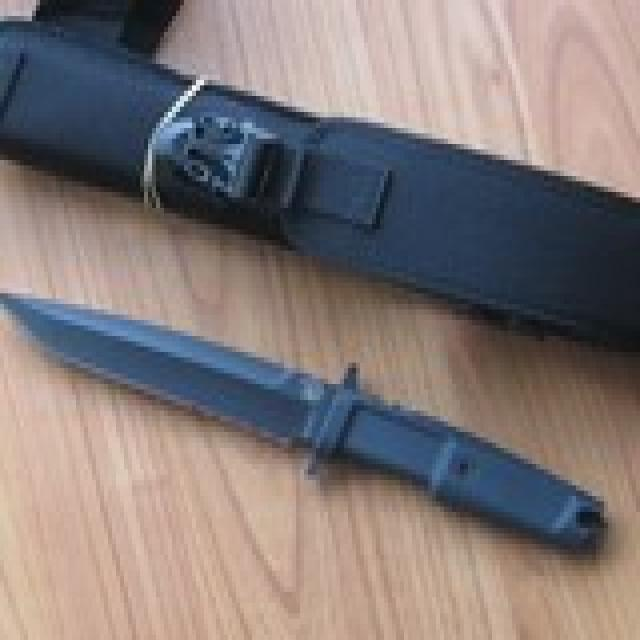Knife: (7, 269, 614, 564)
